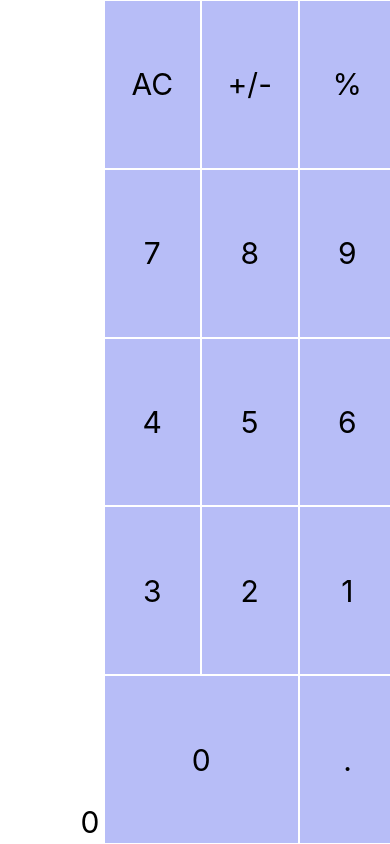
Test: ActionButtons › behavior › should update the screen when a digit button is pressed
This screenshot has width=390, height=844.
Click the element with test id "root-touchable-button-5". click: (250, 422)
box: top-left (202, 339), bottom-right (298, 505)
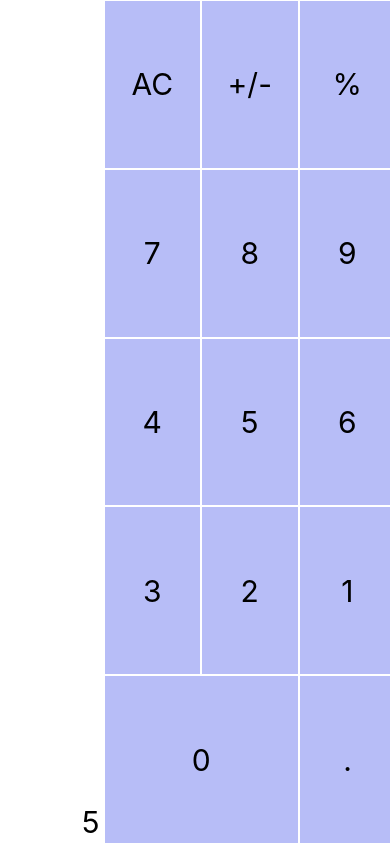
Now the element with test id "screen-root-view" reads "5", box top-left (82, 804), bottom-right (100, 840)
